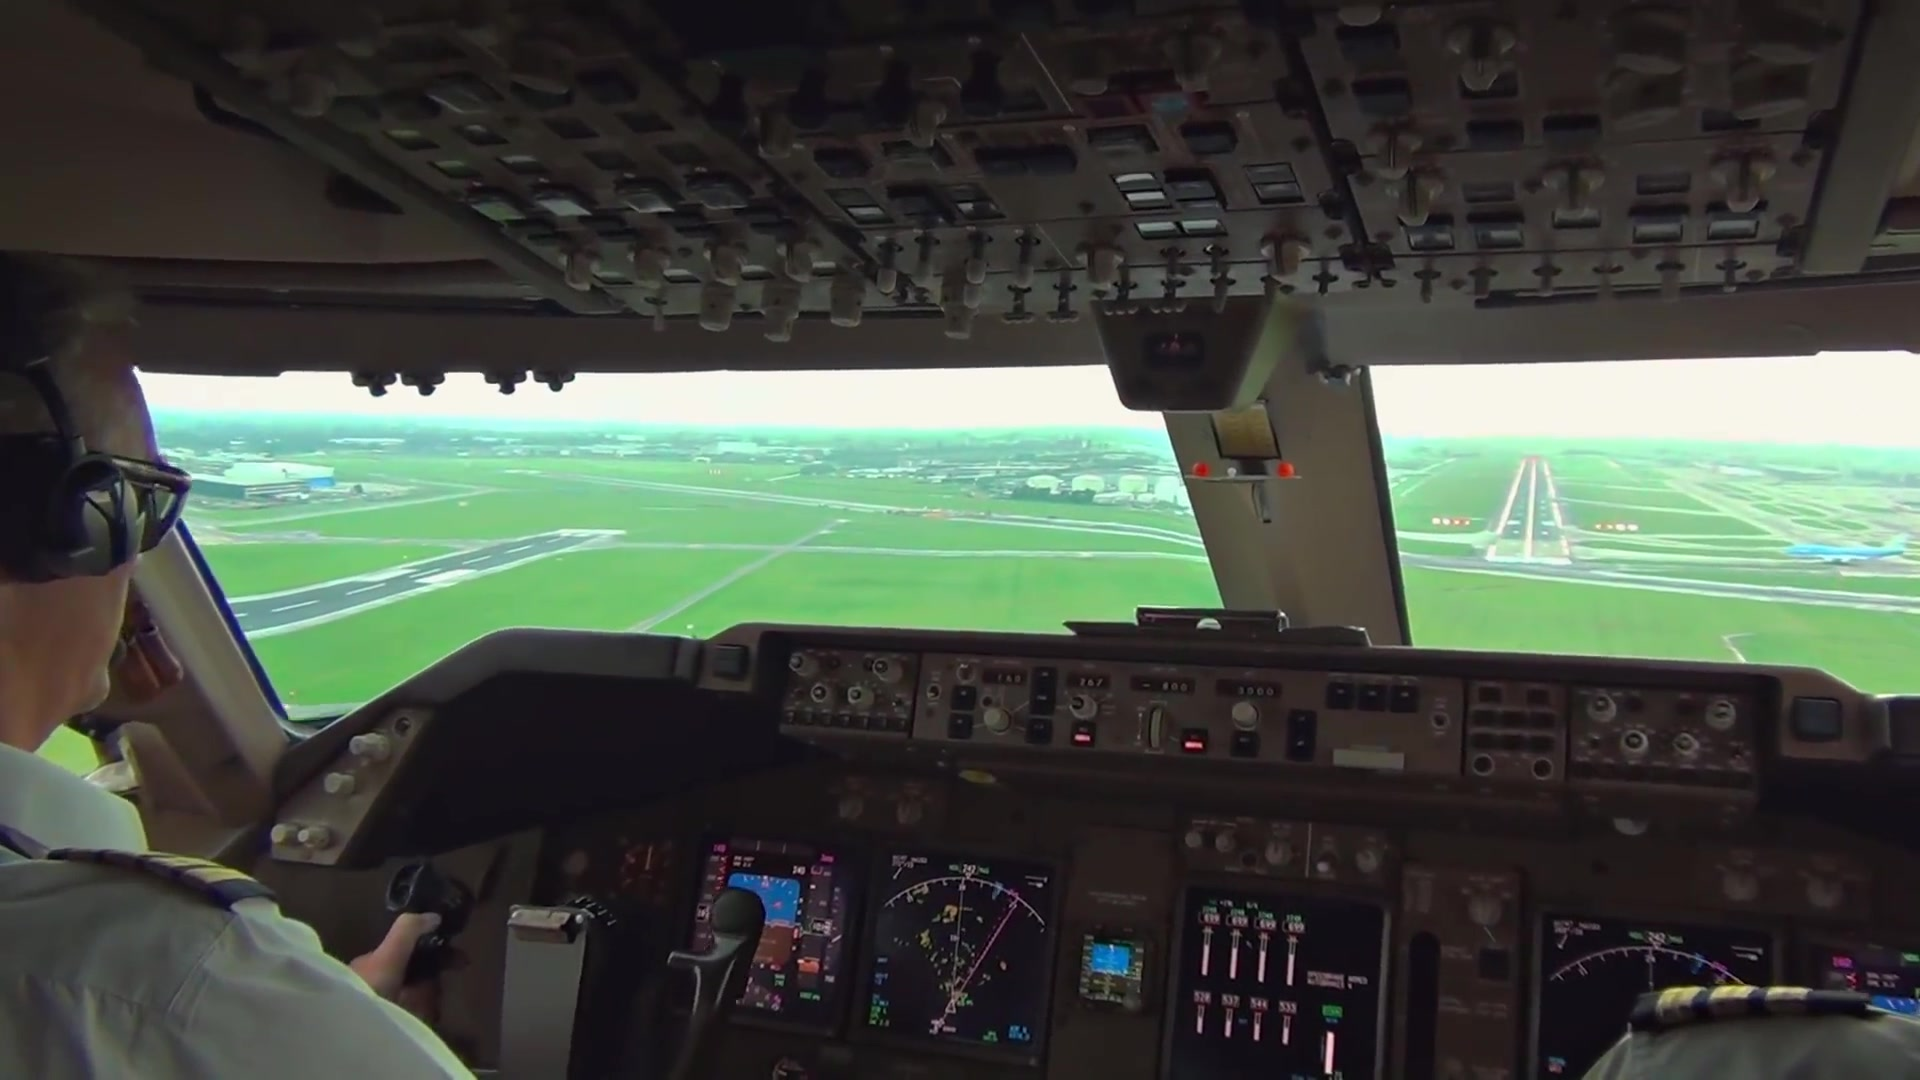runway: (214, 522, 634, 658), (1477, 456, 1577, 568)
